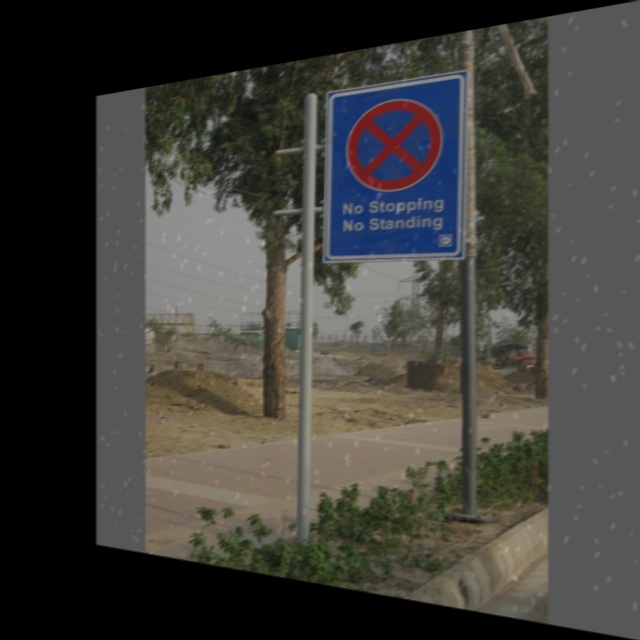No_Stopping_or_Standing: (339, 79, 447, 199)
